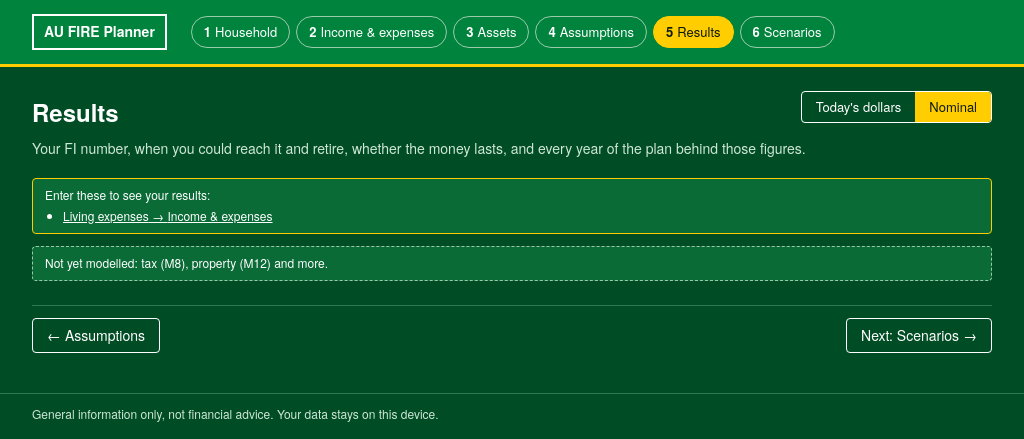
App › goes from Results to Scenarios with Next
Check: the heading "Results" is shown, box [32,96,119,130]
Click the link "Next: Scenarios →" at (919, 336), box [846,318,992,353]
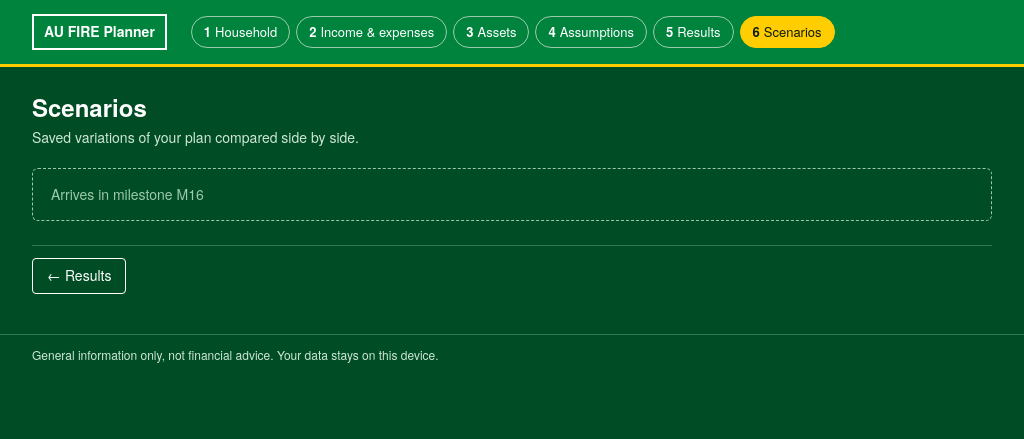
Check: the heading "Scenarios" is shown, box [32,90,147,124]
